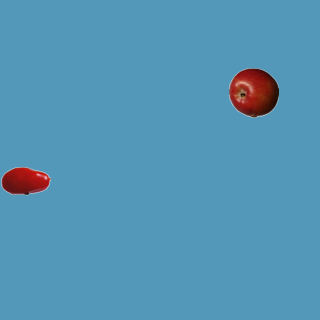Apple Braeburn: (228, 67, 278, 117)
Tomato 2: (0, 155, 50, 205)
